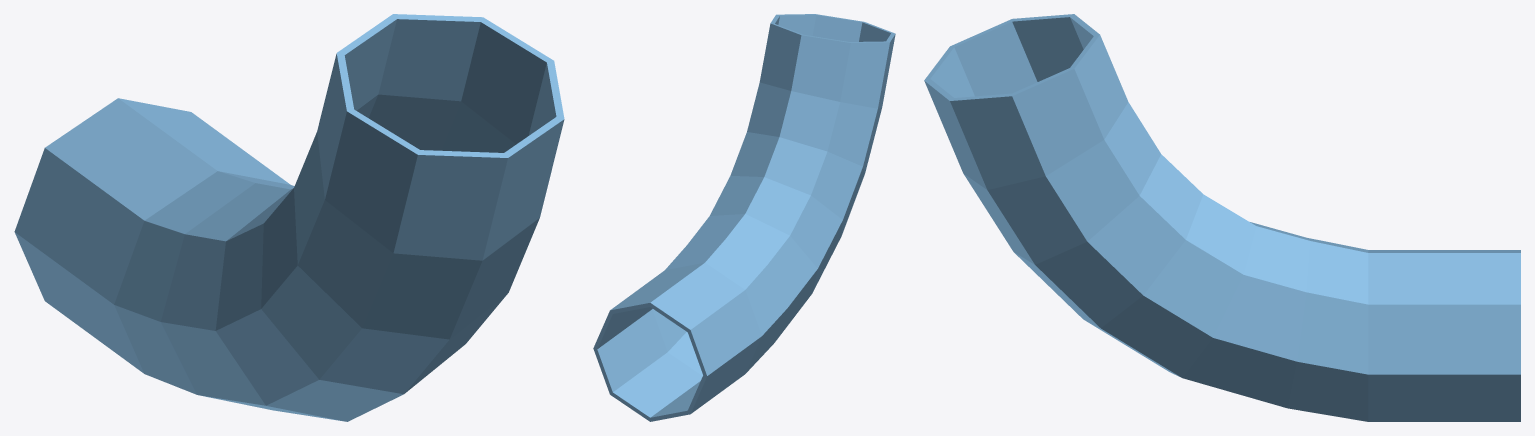
The model's file is tunel turn.fbx.
3 views of the same model, side by side, from view 1: azimuth 30°, elevation 25°; view 2: azimuth 150°, elevation 25°; view 3: azimuth 270°, elevation 25° (orthographic). The views are drawn at different scales.
Parts seen in each view (by area): view 1: Tunel turn; view 2: Tunel turn; view 3: Tunel turn.
Part boxes in pixels (x1,y1,x2,y2): Tunel turn: [14, 14, 564, 421]; Tunel turn: [593, 14, 895, 421]; Tunel turn: [924, 14, 1520, 421].
Bounding box in the file's own units: 6 × 13.9 × 19.55.
